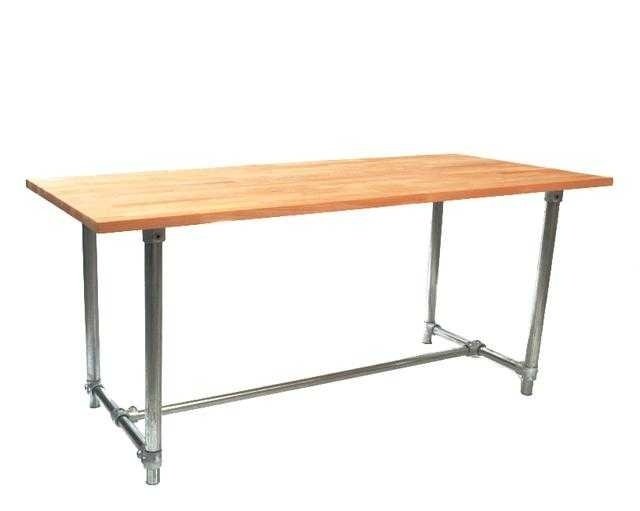obstacle: (26, 154, 612, 484)
